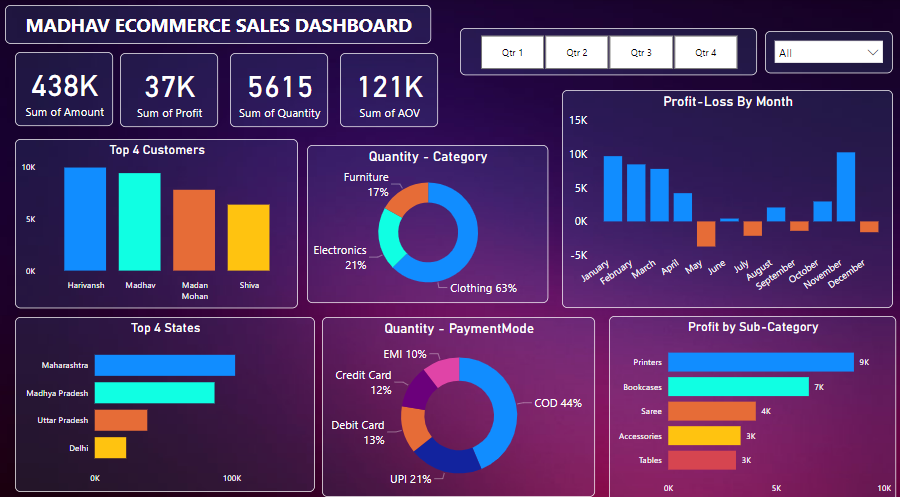

The dashboard page shown, as its layout file describes it:
{"tool":"powerbi","page":{"name":"Page 1","canvas":[1280,720],"ordinal":0},"visuals":[{"type":"textbox","box":[9.9,9.9,603.8,55.3],"z":0},{"type":"columnChart","title":"Profit-Loss By Month","fields":{"Category":["Orders.Order Date.Variation.Date Hierarchy.Month"],"Y":["Details.Profit"]},"box":[799.4,130.4,469.1,309],"z":1000},{"type":"barChart","title":"Profit by Sub-Category","fields":{"Category":["Details.Sub-Category"],"Y":["Details.Profit"]},"box":[866,450.7,406.8,263.6],"z":2000},{"type":"donutChart","title":"Quantity - Category","fields":{"Category":["Details.Category"],"Y":["Details.Quantity"]},"box":[438,208.3,341.6,223.9],"z":3000},{"type":"donutChart","title":"Quantity - PaymentMode","fields":{"Y":["Details.Quantity"],"Category":["Details.PaymentMode"]},"box":[459.2,452.1,386.9,255.1],"z":4000},{"type":"barChart","title":"Top 4 States","fields":{"Category":["Orders.State"],"Y":["Details.Amount"]},"box":[24.1,452.1,425.2,248],"z":5000},{"type":"columnChart","title":"Top 4 Customers","fields":{"Category":["Orders.CustomerName"],"Y":["Details.Amount"]},"box":[24.1,199.8,401.1,239.5],"z":6000},{"type":"card","fields":{"Values":["Details.Amount"]},"box":[24.1,76.5,138.9,104.9],"z":7000},{"type":"card","fields":{"Values":["Details.Profit"]},"box":[172.9,78,138.9,104.9],"z":8000},{"type":"card","fields":{"Values":["Details.Quantity"]},"box":[328.8,78,138.9,104.9],"z":9000},{"type":"card","fields":{"Values":["Details.AOV"]},"box":[484.7,78,138.9,104.9],"z":10000},{"type":"slicer","fields":{"Values":["Orders.Order Date.Variation.Date Hierarchy.Quarter"]},"box":[654.8,42.5,420.9,66.6],"z":11000},{"type":"slicer","fields":{"Values":["Orders.State"]},"box":[1087.1,46.8,181.4,59.5],"z":12000}]}

Visuals, with their boxes in screenshot pixels (x1, y1, x2, y2), scaled from the page's 1280x720 canvas onto the 900x497 screenshot:
textbox: <bbox>7, 7, 432, 45</bbox>
"Profit-Loss By Month" columnChart: <bbox>562, 90, 892, 303</bbox>
"Profit by Sub-Category" barChart: <bbox>609, 311, 895, 493</bbox>
"Quantity - Category" donutChart: <bbox>308, 144, 548, 298</bbox>
"Quantity - PaymentMode" donutChart: <bbox>323, 312, 595, 488</bbox>
"Top 4 States" barChart: <bbox>17, 312, 316, 483</bbox>
"Top 4 Customers" columnChart: <bbox>17, 138, 299, 303</bbox>
card - Details.Amount: <bbox>17, 53, 115, 125</bbox>
card - Details.Profit: <bbox>122, 54, 219, 126</bbox>
card - Details.Quantity: <bbox>231, 54, 329, 126</bbox>
card - Details.AOV: <bbox>341, 54, 438, 126</bbox>
slicer - Orders.Order Date.Variation.Date Hierarchy.Quarter: <bbox>460, 29, 756, 75</bbox>
slicer - Orders.State: <bbox>764, 32, 892, 73</bbox>
